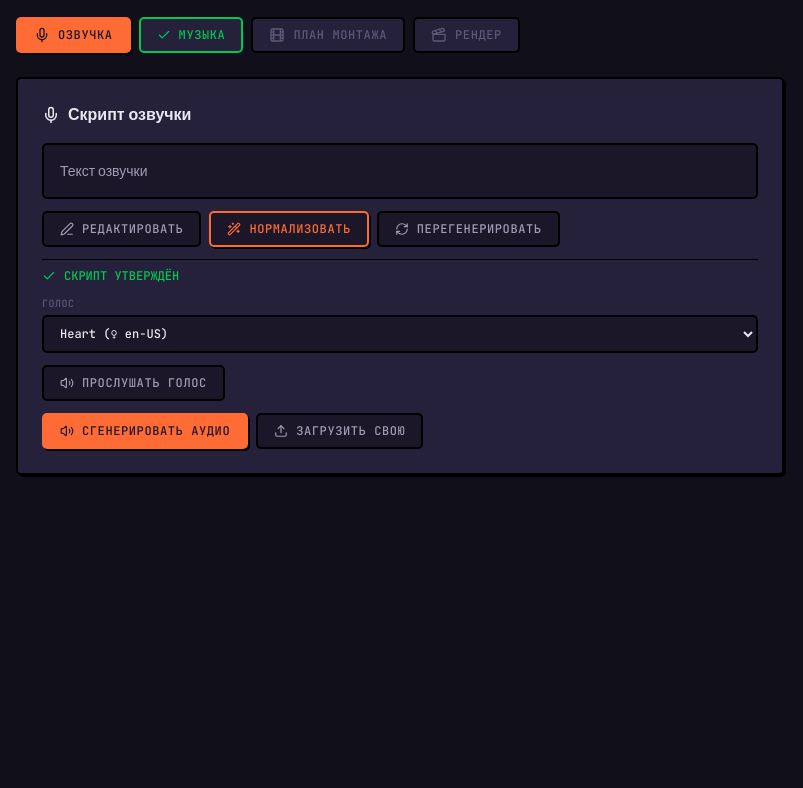
Test: MontageView semantic planning panel › renders one-click assemble CTA and keeps raw coverage behind manual diagnostics
The width and height of the screenshot is (803, 788).
Click the button "План монтажа".
click(328, 35)  # box left=251, top=17, right=405, bottom=53
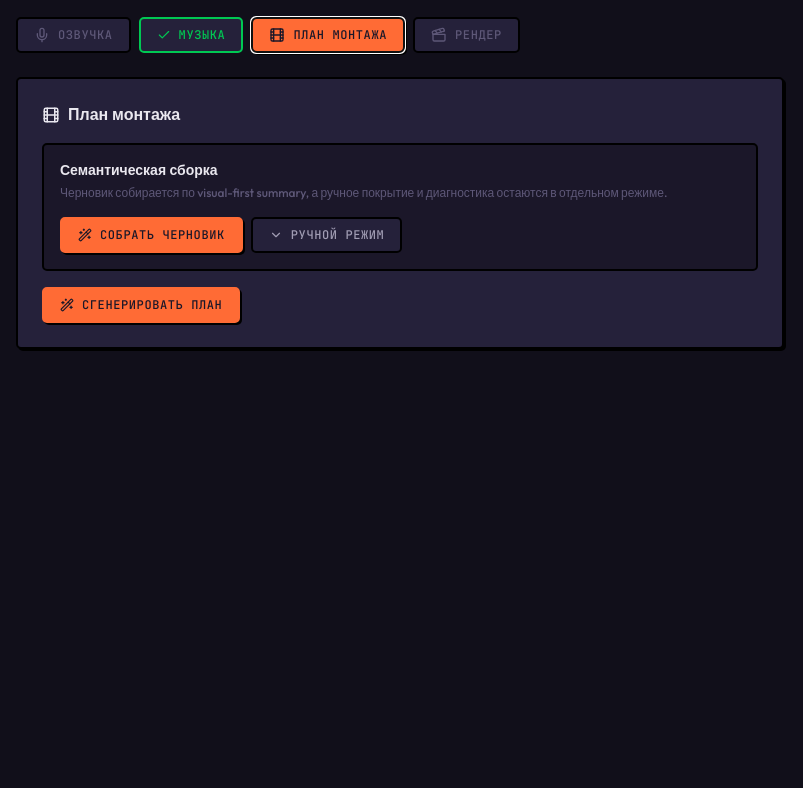
Expected: the heading "Семантическая сборка" is shown, left=60, top=162, right=218, bottom=179
Expected: the button "Собрать черновик" is shown, left=60, top=217, right=243, bottom=253
Expected: the button "Ручной режим" is shown
Click the button "Ручной режим".
click(327, 235)  # box left=251, top=217, right=402, bottom=253
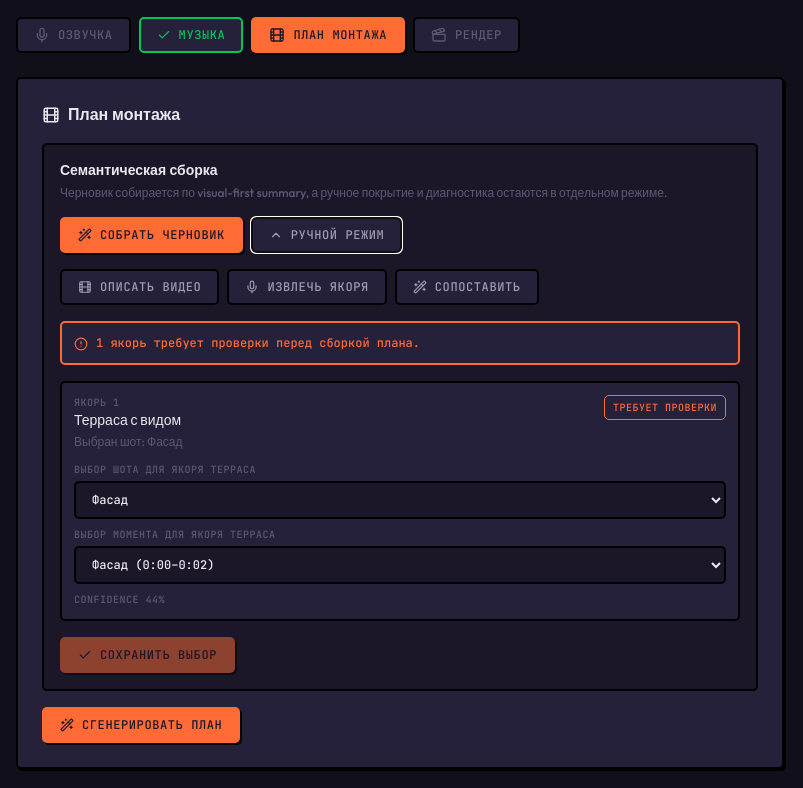
Expected: the text "1 якорь требует проверки перед сборкой плана." is shown, left=96, top=335, right=420, bottom=351
